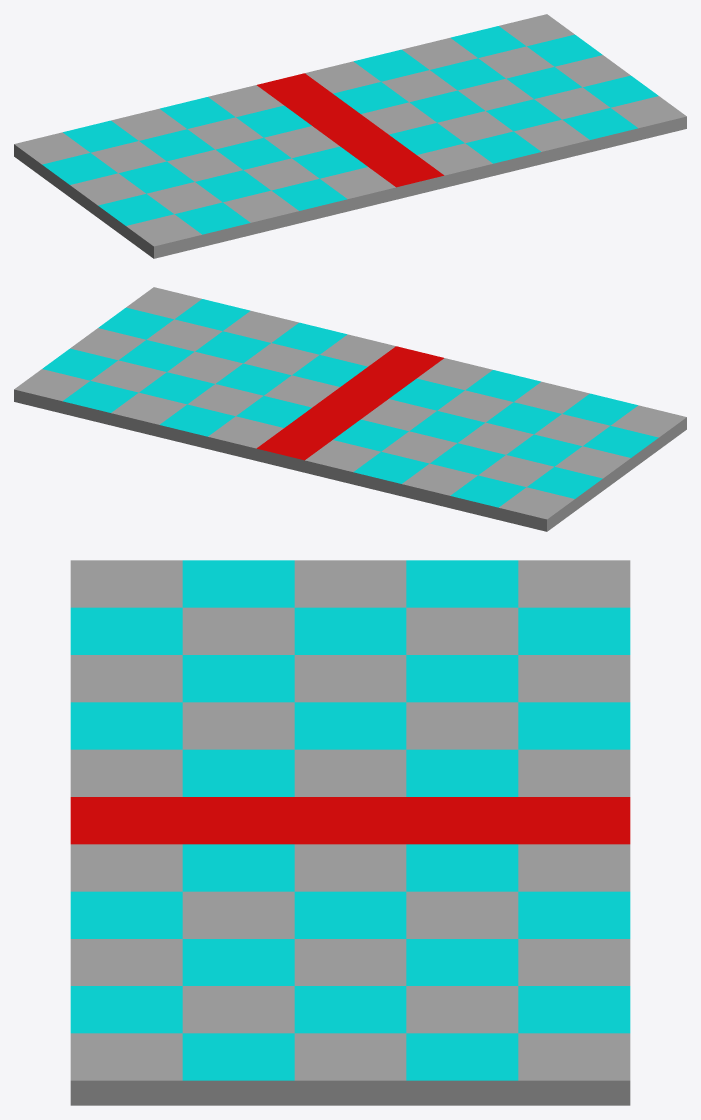
The model's file is Griglia.fbx.
The picture shows the model from 3 angles, top to bottom: view 1: azimuth 30°, elevation 25°; view 2: azimuth 150°, elevation 25°; view 3: azimuth 270°, elevation 25°; orthographic projection. The views are drawn at different scales.
Visible parts, largest first — view 1: pCube4; view 2: pCube4; view 3: pCube4.
Part boxes in pixels (x1,y1,x2,y2): pCube4: (14, 14, 686, 258); pCube4: (14, 287, 686, 531); pCube4: (70, 560, 630, 1105).
Bounding box in the file's own units: 900 × 20 × 409.
